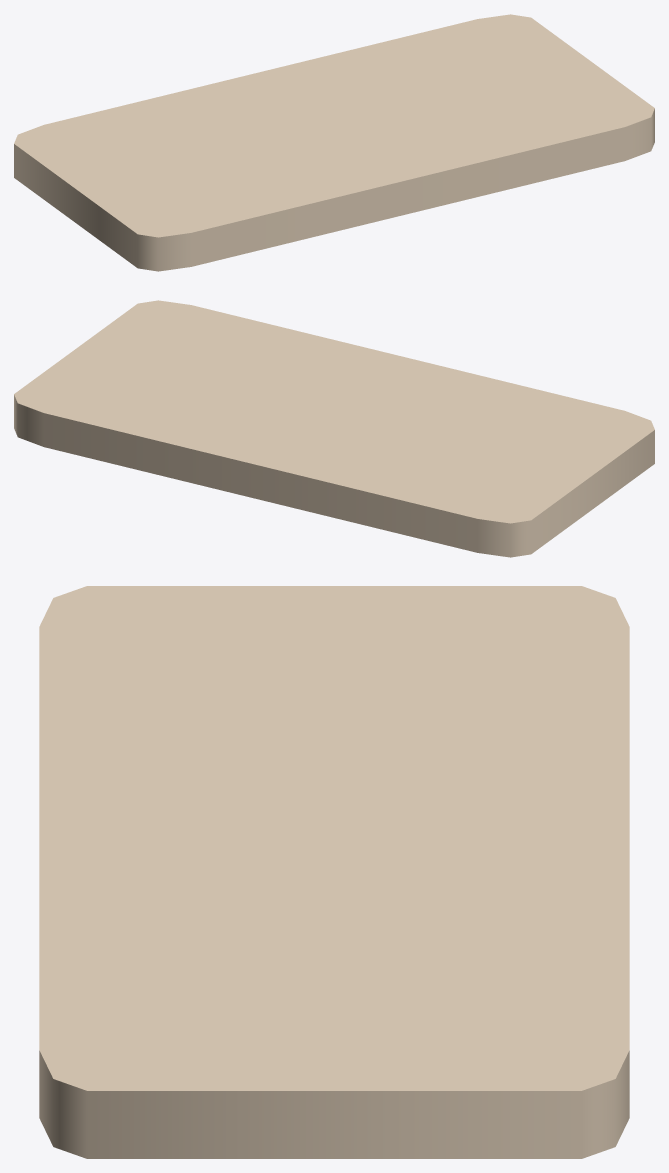
The model's file is Token_1.glb.
3 renders of one model, top to bottom at view 1: azimuth 30°, elevation 25°; view 2: azimuth 150°, elevation 25°; view 3: azimuth 270°, elevation 25°, orthographic. The views are drawn at different scales.
Parts seen in each view (by area): view 1: Token_1; view 2: Token_1; view 3: Token_1.
Boxes of the visible parts, bbox=[...] form: Token_1: bbox=[14, 14, 654, 271]; Token_1: bbox=[14, 300, 654, 557]; Token_1: bbox=[39, 586, 629, 1158].
Bounding box in the file's own units: 0.1646 × 0.0104 × 0.0813.
